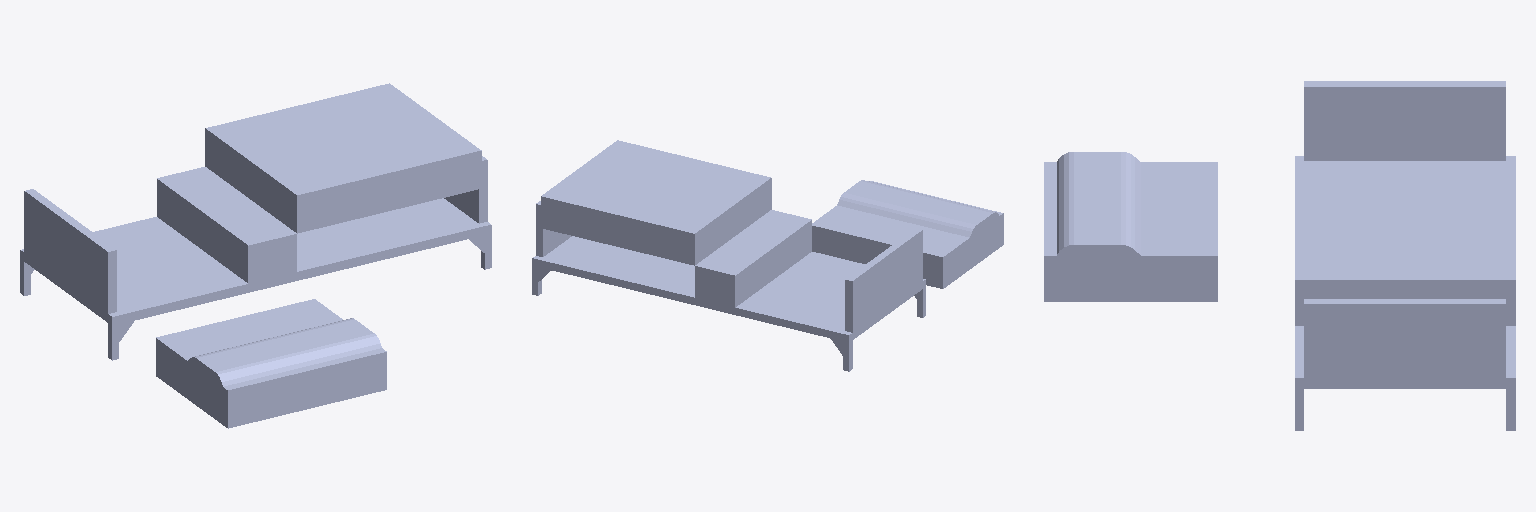
URDF robot description (autobed):
<?xml version="1.0" ?>
<robot name="autobed">
  <gazebo reference="autobed">
    <plugin filename="libros_model_plugin.so" name="ros_model_plugin"/>
    <static> false </static>
  </gazebo>
  <gazebo reference="head_rest_link">
    <gravity>true</gravity>
   <!-- kp and kd for rubber -->
    <kp>1000000.0</kp>
    <kd>1.0</kd>
    <mu1>1.5</mu1>
    <mu2>1.5</mu2>
    <fdir1>1 0 0</fdir1>
    <maxVel>1.0</maxVel>
    <minDepth>0.00</minDepth>
    <sensor name="head_rest_link_pressuremat_sensor" type="contact">
      <contact>
        <collision>head_rest_link_collision</collision>
        <topic>__default_topic__</topic>
      </contact>
      <plugin filename="libros_pressuremat_plugin.so" name="ros_pressuremat_plugin_head_rest_link"/>
      <always_on>1</always_on>
      <update_rate>30.0</update_rate>
      <visualize>false</visualize>
    </sensor>
  </gazebo>
  <gazebo reference="torso_lift_link">
    <gravity>true</gravity>
    <!-- kp and kd for rubber -->
    <kp>1000000.0</kp>
    <kd>1.0</kd>
    <mu1>1.5</mu1>
    <mu2>1.5</mu2>
    <fdir1>1 0 0</fdir1>
    <maxVel>1.0</maxVel>
    <minDepth>0.00</minDepth>
   <sensor name="torso_lift_link_pressuremat_sensor" type="contact">
      <contact>
        <collision>torso_lift_link_collision</collision>
        <topic>__default_topic__</topic>
      </contact>
      <plugin filename="libros_pressuremat_plugin.so" name="ros_pressuremat_plugin_torso_lift_link"/>
      <always_on>1</always_on>
      <update_rate>30.0</update_rate>
      <visualize>false</visualize>
    </sensor>
  </gazebo>

  <gazebo reference="leg_rest_upper_link">
    <gravity>true</gravity>
    <!-- kp and kd for rubber -->
    <kp>1000000.0</kp>
    <kd>1.0</kd>
    <mu1>1.5</mu1>
    <mu2>1.5</mu2>
    <fdir1>1 0 0</fdir1>
    <maxVel>1.0</maxVel>
    <minDepth>0.00</minDepth>
   <sensor name="leg_rest_upper_link_pressuremat_sensor" type="contact">
      <contact>
        <collision>leg_rest_upper_link_collision</collision>
        <topic>__default_topic__</topic>
      </contact>
      <plugin filename="libros_pressuremat_plugin.so" name="ros_pressuremat_plugin_leg_rest_upper_link"/>
      <always_on>1</always_on>
      <update_rate>30.0</update_rate>
      <visualize>false</visualize>
    </sensor>
  </gazebo>

  <gazebo reference="leg_rest_lower_link">
    <gravity>true</gravity>
    <!-- kp and kd for rubber -->
    <kp>1000000.0</kp>
    <kd>1.0</kd>
    <mu1>1.5</mu1>
    <mu2>1.5</mu2>
    <fdir1>1 0 0</fdir1>
    <maxVel>1.0</maxVel>
    <minDepth>0.00</minDepth>

    <sensor name="leg_rest_lower_link_pressuremat_sensor" type="contact">
      <contact>
        <collision>leg_rest_lower_link_collision</collision>
        <topic>__default_topic__</topic>
      </contact>
      <plugin filename="libros_pressuremat_plugin.so" name="ros_pressuremat_plugin_leg_rest_lower_link"/>
      <always_on>1</always_on>
      <update_rate>30.0</update_rate>
      <visualize>false</visualize>
    </sensor>
  </gazebo>
  <link name="world"/>
  <joint name="X" type="fixed">
    <axis xyz="1 0 0"/>
    <origin rpy="0 0 0" xyz="1.07 -1.1433776843867E-16 0.0"/>
    <parent link="world"/>
    <child link="base_link"/>
    <limit effort="30" lower="-0.714601836603" upper="2.2853981634" velocity="3.48"/>
    <dynamics damping="10.0"/>
    <safety_controller k_position="100" k_velocity="10" soft_lower_limit="-0.564601836603" soft_upper_limit="2.1353981634"/>
  </joint>
  <link
    name="base_link">
    <inertial>
      <origin
        xyz="1.07 -1.1433776843867E-16 0.0"
        rpy="0 0 0" />
      <mass
        value="582.60172808288" />
      <inertia
        ixx="1.14927006759014"
        ixy="4.44089209850063E-16"
        ixz="-2.75515108570424E-16"
        iyy="6.70434113225239"
        iyz="-1.34851165646458E-15"
        izz="7.79754704731756" />
    </inertial>
    <visual>
      <origin
        xyz="0 0 0"
        rpy="0 0 0" />
      <geometry>
        <mesh
          filename="package://hrl_gazebo_autobed/urdf/meshes/base_link.STL" />
      </geometry>
      <material
        name="">
        <color
          rgba="0.792156862745098 0.819607843137255 0.933333333333333 1" />
      </material>
    </visual>
    <collision>
      <origin
        xyz="0 0 0"
        rpy="0 0 0" />
      <geometry>
        <mesh
          filename="package://hrl_gazebo_autobed/urdf/meshes/base_link.STL" />
      </geometry>
    </collision>
  </link>
  <link
    name="torso_lift_link">
    <inertial>
      <origin
        xyz="1.09 2.20819758781256E-16 0.0672692489591485"
        rpy="0 0 0" />
      <mass
        value="14.2783" />
      <inertia
        ixx="9.92907506560545"
        ixy="2.91752028352271E-14"
        ixz="3.71888182657881E-15"
        iyy="73.8016521218553"
        iyz="2.07859383954076E-15"
        izz="81.4226856770832" />
    </inertial>
    <visual>
      <origin
        xyz="0 0 0"
        rpy="0 0 0" />
      <geometry>
        <mesh
          filename="package://hrl_gazebo_autobed/urdf/meshes/torso_lift_link.STL" />
      </geometry>
      <material
        name="">
        <color
          rgba="0.792156862745098 0.819607843137255 0.933333333333333 1" />
      </material>
    </visual>
    <collision name="torso_lift_link_collision">
      <origin
        xyz="0 0 0"
        rpy="0 0 0" />
      <geometry>
        <mesh
          filename="package://hrl_gazebo_autobed/urdf/meshes/torso_lift_link.STL" />
      </geometry>
    </collision>
  </link>
  <joint
    name="autobed_height_joint"
    type="prismatic">
    <origin
      xyz="-0.02 0 0.2805"
      rpy="0 0 0" />
    <parent
      link="base_link" />
    <child
      link="torso_lift_link" />
    <axis
      xyz="0 0 1" />
    <limit
      lower="0.09"
      upper="0.2"
      effort="2000"
      velocity="0.2" />
  </joint>
  <link
    name="mid_body_link">
    <inertial>
      <origin
        xyz="1.8710748266729E-16 0.08 -0.14"
        rpy="0 0 0" />
      <mass
        value="4.0992" />
      <inertia
        ixx="0.355264"
        ixy="4.37857509439735E-16"
        ixz="-8.80386378148858E-16"
        iyy="3.127775"
        iyz="6.19830990237584E-17"
        izz="2.9474102" />
    </inertial>
    <visual>
      <origin
        xyz="0 0 0"
        rpy="0 0 0" />
      <geometry>
        <mesh
                filename="package://hrl_gazebo_autobed/urdf/meshes/mid_body_link.STL" />
      </geometry>
      <material
        name="">
        <color
          rgba="0.792156862745098 0.819607843137255 0.933333333333333 1" />
      </material>
    </visual>
    <collision>
      <origin
        xyz="0 0 0"
        rpy="0 0 0" />
      <geometry>
        <mesh
                filename="package://hrl_gazebo_autobed/urdf/meshes/mid_body_link.STL" />
      </geometry>
    </collision>
  </link>
  <joint
    name="mid_body_support"
    type="fixed">
    <origin
      xyz="0.782663137625778 0 0.0499999999999999"
      rpy="1.5707963267949 -8.02446817831858E-32 -1.5707963267949" />
    <parent
      link="torso_lift_link" />
    <child
      link="mid_body_link" />
    <axis
      xyz="0 0 0" />
  </joint>
  <link
    name="head_rest_link">
    <inertial>
      <origin
        xyz="-0.265125168782913 4.4043687850025E-16 0.300923176859995"
        rpy="0 0 0" />
      <mass
        value="5.2153755040103" />
      <inertia
        ixx="4.3520435272735"
        ixy="-6.37257789586883E-16"
        ixz="-0.817891944652799"
        iyy="1.75110482700463"
        iyz="-1.56812621946578E-15"
        izz="3.9218470936395" />
    </inertial>
    <visual>
      <origin
        xyz="0 0 0"
        rpy="0 0 0" />
      <geometry>
        <mesh
          filename="package://hrl_gazebo_autobed/urdf/meshes/head_rest_link.STL" />
      </geometry>
      <material
        name="">
        <color
          rgba="0.792156862745098 0.819607843137255 0.933333333333333 1" />
      </material>
    </visual>
    <collision name="head_rest_link_collision">
      <origin
        xyz="0 0 0"
        rpy="0 0 0" />
      <geometry>
        <mesh
          filename="package://hrl_gazebo_autobed/urdf/meshes/head_rest_link.STL" />
      </geometry>
    </collision>
  </link>
  <joint
    name="head_rest_hinge"
    type="revolute">
    <origin
      xyz="0.775 0 0.26"
      rpy="1.5708 1.0561E-10 3.1416" />
    <parent
      link="mid_body_link" />
    <child
      link="head_rest_link" />
    <axis
      xyz="0 0 1" />
    <limit
      lower="0"
      upper="1.57"
      effort="2000"
      velocity="0.2" />
  </joint>
  <link
    name="head_rest_spring">
    <inertial>
      <origin
        xyz="-0.330483974229218 4.31545596915377E-16 0.193081181832052"
        rpy="0 0 0" />
      <mass
        value="10.0" />
      <inertia
        ixx="10.1304498593177"
        ixy="-1.95205264327444E-15"
        ixz="-2.12949474795431"
        iyy="4.778496"
        iyz="-1.4014149363005E-15"
        izz="9.35641494068226" />
    </inertial>
    <visual>
      <origin
        xyz="0 0 0"
        rpy="0 0 0" />
      <geometry>
        <mesh
                filename="package://hrl_gazebo_autobed/urdf/meshes/head_rest_spring.STL" />
      </geometry>
      <material
        name="">
        <color
          rgba="0.792156862745098 0.819607843137255 0.933333333333333 1" />
      </material>
    </visual>
    <collision>
      <origin
        xyz="0 0 0"
        rpy="0 0 0" />
      <geometry>
        <mesh
                filename="package://hrl_gazebo_autobed/urdf/meshes/head_rest_spring.STL" />
      </geometry>
    </collision>
  </link>
  <joint
    name="head_support"
    type="fixed">
    <origin
      xyz="0 0 0"
      rpy="0 0 0" />
    <parent
      link="head_rest_link" />
    <child
      link="head_rest_spring" />
    <axis
      xyz="0 0 0" />
  </joint>
 
  <link
    name="leg_rest_upper_link">
    <inertial>
      <origin
        xyz="0.182707305037763 3.86279581056153E-16 0.0383150190635188"
        rpy="0 0 0" />
      <mass
        value="02.10955" />
      <inertia
        ixx="1.20574516349631"
        ixy="3.88338409378493E-17"
        ixz="0.0597579752356016"
        iyy="0.196641125"
        iyz="-2.44141358520896E-16"
        izz="1.35291699275369" />
    </inertial>
    <visual>
      <origin
        xyz="0 0 0"
        rpy="0 0 0" />
      <geometry>
        <mesh
          filename="package://hrl_gazebo_autobed/urdf/meshes/leg_rest_upper_link.STL" />
      </geometry>
      <material
        name="">
        <color
          rgba="0.792156862745098 0.819607843137255 0.933333333333333 1" />
      </material>
    </visual>
    <collision name="leg_rest_upper_link_collision">
      <origin
        xyz="0 0 0"
        rpy="0 0 0" />
      <geometry>
        <mesh
          filename="package://hrl_gazebo_autobed/urdf/meshes/leg_rest_upper_link.STL" />
      </geometry>
    </collision>
  </link>
  <joint
    name="leg_rest_upper_joint"
    type="revolute">
    <origin
      xyz="0 0.21 -0.28"
      rpy="1.5708 1.5708 0" />
    <parent
      link="mid_body_link" />
    <child
      link="leg_rest_upper_link" />
    <axis
      xyz="0 -1 0" />
    <limit
      lower="0"
      upper="1"
      effort="2000"
      velocity="0.2" />
  </joint>
  <link
    name="leg_rest_lower_link">
    <inertial>
      <origin
        xyz="0.334457721707061 -1.50857618804305E-16 -0.0882498294100081"
        rpy="0 0 0" />
      <mass
        value="3.25835" />
      <inertia
        ixx="2.25144692930096"
        ixy="-4.04280836598245E-16"
        ixz="-0.226007803318905"
        iyy="1.259017125"
        iyz="-2.82510221630701E-16"
        izz="3.41242022694904" />
    </inertial>
    <visual>
      <origin
        xyz="0 0 0"
        rpy="0 0 0" />
      <geometry>
        <mesh
          filename="package://hrl_gazebo_autobed/urdf/meshes/leg_rest_lower_link.STL" />
      </geometry>
      <material
        name="">
        <color
          rgba="0.792156862745098 0.819607843137255 0.933333333333333 1" />
      </material>
    </visual>
    <collision name="leg_rest_lower_link_collision">
      <origin
        xyz="0 0 0"
        rpy="0 0 0" />
      <geometry>
        <mesh
          filename="package://hrl_gazebo_autobed/urdf/meshes/leg_rest_lower_link.STL" />
      </geometry>
    </collision>
  </link>
  <joint
    name="leg_rest_upper_lower_joint"
    type="revolute">
    <origin
      xyz="0.37 0 0"
      rpy="-3.7123E-16 5.9121E-16 3.7854E-11" />
    <parent
      link="leg_rest_upper_link" />
    <child
      link="leg_rest_lower_link" />
    <axis
      xyz="0 0 1" />
    <limit
      lower="0"
      upper="0"
      effort="0"
      velocity="0" />
  </joint>
  <link
    name="leg_rest_lower_spring">
    <inertial>
      <origin
        xyz="0.315077040128518 -1.42119067021682E-16 -0.191445707143964"
        rpy="0 0 0" />
      <mass
        value="10.016" />
      <inertia
        ixx="7.39246105746224"
        ixy="-2.04710343003883E-16"
        ixz="-0.68794942833948"
        iyy="4.2233106"
        iyz="-1.08147874718548E-15"
        izz="10.9263696425378" />
    </inertial>
    <visual>
      <origin
        xyz="0 0 0"
        rpy="0 0 0" />
      <geometry>
        <mesh
                filename="package://hrl_gazebo_autobed/urdf/meshes/leg_rest_lower_spring.STL" />
      </geometry>
      <material
        name="">
        <color
          rgba="0.792156862745098 0.819607843137255 0.933333333333333 1" />
      </material>
    </visual>
    <collision>
      <origin
        xyz="0 0 0"
        rpy="0 0 0" />
      <geometry>
        <mesh
                filename="package://hrl_gazebo_autobed/urdf/meshes/leg_rest_lower_spring.STL" />
      </geometry>
    </collision>
  </link>
  <joint
    name="leg_rest_lower_support"
    type="fixed">
    <origin
      xyz="0 0 0"
      rpy="0 0 0" />
    <parent
      link="leg_rest_lower_link" />
    <child
      link="leg_rest_lower_spring" />
    <axis
      xyz="0 0 0" />
  </joint>
  <link
    name="leg_rest_upper_spring">
    <inertial>
      <origin
        xyz="0.217825695885058 4.63769251181149E-16 -0.0606379931411832"
        rpy="0 0 0" />
      <mass
        value="5.0" />
      <inertia
        ixx="3.95099347623326"
        ixy="2.08188694044973E-16"
        ixz="0.158358634373469"
        iyy="0.733525000000001"
        iyz="-6.8184306617181E-16"
        izz="4.34099882376675" />
    </inertial>
    <visual>
      <origin
        xyz="0 0 0"
        rpy="0 0 0" />
      <geometry>
        <mesh
                filename="package://hrl_gazebo_autobed/urdf/meshes/leg_rest_upper_spring.STL" />
      </geometry>
      <material
        name="">
        <color
          rgba="0.792156862745098 0.819607843137255 0.933333333333333 1" />
      </material>
    </visual>
    <collision>
      <origin
        xyz="0 0 0"
        rpy="0 0 0" />
      <geometry>
        <mesh
                filename="package://hrl_gazebo_autobed/urdf/meshes/leg_rest_upper_spring.STL" />
      </geometry>
    </collision>
  </link>
  <joint
    name="leg_rest_upper_support"
    type="fixed">
    <origin
      xyz="0 0 0"
      rpy="0 0 0" />
    <parent
      link="leg_rest_upper_link" />
    <child
      link="leg_rest_upper_spring" />
    <axis
      xyz="0 0 0" />
  </joint>

<!-- yash added transmissions -->
  <transmission name="autobed_height_t0" type="pr2_mechanism_model/SimpleTransmission">
    <actuator name="autobed_height_a0"/>
    <joint name="autobed_height_joint"/>
    <mechanicalReduction>1</mechanicalReduction>
  </transmission>
  <transmission name="head_rest_t0" type="pr2_mechanism_model/SimpleTransmission">
    <actuator name="head_rest_a0"/>
    <joint name="head_rest_hinge"/>
    <mechanicalReduction>1.0</mechanicalReduction>
  </transmission>
  <transmission name="leg_rest_t1" type="pr2_mechanism_model/SimpleTransmission">
    <actuator name="leg_rest_a1"/>
    <joint name="leg_rest_upper_joint"/>
    <mechanicalReduction>1.0</mechanicalReduction>
  </transmission>
</robot>

--- Facts derived from the render (not from the file) ---
3 views of the same robot in one strip: view 1: azimuth 30°, elevation 25°; view 2: azimuth 150°, elevation 25°; view 3: azimuth 270°, elevation 25° (orthographic).
Robot: autobed — 10 links, 9 joints (3 revolute, 1 prismatic, 5 fixed); root link world; default pose: all joints at 0 but 1 set to mid-range because 0 is outside their limits (autobed_height_joint = 0.145).
Visible links, largest first — view 1: torso_lift_link, leg_rest_lower_spring, head_rest_link, leg_rest_upper_spring, head_rest_spring, mid_body_link, leg_rest_upper_link, leg_rest_lower_link; view 2: torso_lift_link, leg_rest_lower_spring, head_rest_link, leg_rest_upper_spring, mid_body_link, head_rest_spring, leg_rest_upper_link, leg_rest_lower_link; view 3: torso_lift_link, leg_rest_lower_spring, head_rest_link, leg_rest_upper_spring, head_rest_spring.
Link boxes in pixels (x1,y1,x2,y2): torso_lift_link: (20, 156, 491, 360); leg_rest_lower_spring: (270, 83, 481, 208); head_rest_link: (156, 299, 386, 398); leg_rest_upper_spring: (205, 113, 361, 224); head_rest_spring: (156, 347, 386, 428); mid_body_link: (157, 167, 296, 254); leg_rest_upper_link: (205, 157, 361, 233); leg_rest_lower_link: (362, 180, 481, 217); torso_lift_link: (532, 201, 925, 371); leg_rest_lower_spring: (541, 140, 717, 244); head_rest_link: (812, 180, 1003, 264); leg_rest_upper_spring: (641, 165, 771, 257); mid_body_link: (695, 210, 811, 282); head_rest_spring: (812, 221, 1003, 288); leg_rest_upper_link: (641, 202, 771, 265); leg_rest_lower_link: (541, 221, 640, 252); torso_lift_link: (1295, 81, 1515, 430); leg_rest_lower_spring: (1295, 210, 1515, 314); head_rest_link: (1044, 152, 1217, 266); leg_rest_upper_spring: (1295, 172, 1515, 209); head_rest_spring: (1044, 267, 1217, 301).
Bounding box of the posed robot: 2.18 × 1.95 × 0.66 m (x, y, z).
Meshes: 9 distinct files referenced, 8 mesh visuals loaded (8 binary STL); not drawn: 1 (reference not matched to a file when rendering).
